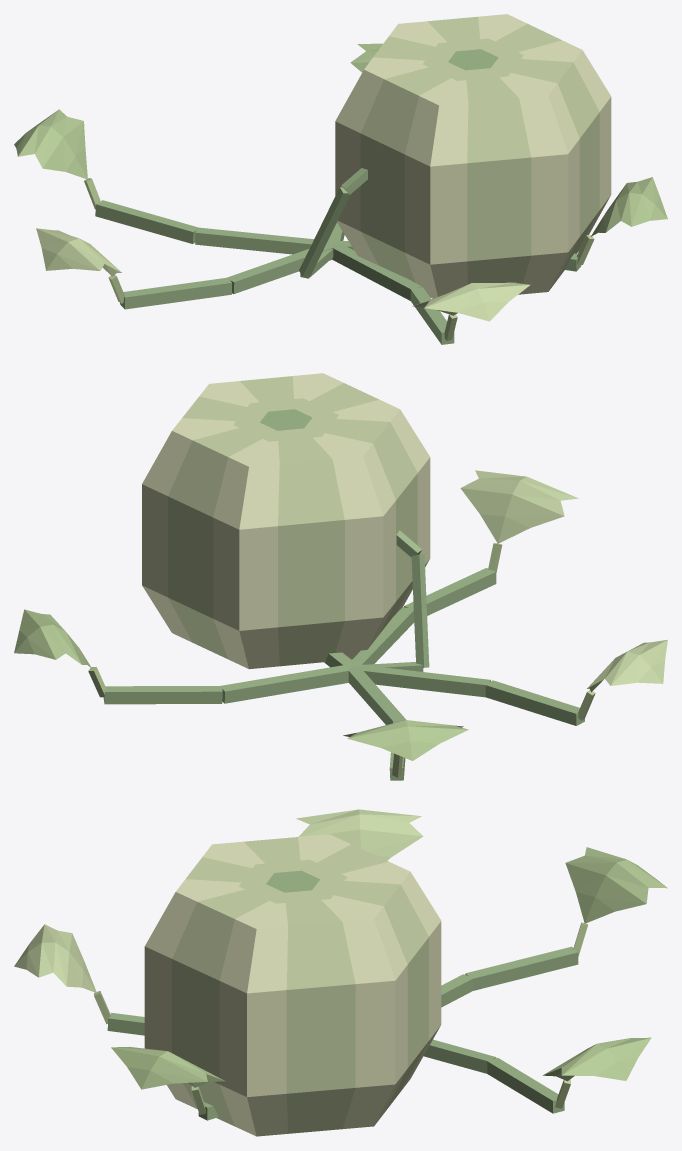
File: crafted-crop-melon-3.glb
3 renders of one model, top to bottom at view 1: azimuth 30°, elevation 25°; view 2: azimuth 150°, elevation 25°; view 3: azimuth 270°, elevation 25°, orthographic. The views are drawn at different scales.
Visible parts, largest first — view 1: fruit-skin, fruit-skin-1, vine-leaf-4, vine-leaf-3, vine-leaf, vine-leaf-1, vine-0-4, vine-1-1, vine-1-4, vine-0-3, vine-0-1, fruit-attachment-1 (+2 smaller); view 2: fruit-skin, fruit-skin-1, vine-leaf-3, vine-leaf-4, vine-0-2, vine-leaf-2, vine-leaf-1, vine-0-1, vine-1-2, vine-1-1, fruit-attachment-1, vine-1-3 (+3 smaller); view 3: fruit-skin, fruit-skin-1, vine-leaf-4, vine-leaf-1, vine-leaf-3, vine-leaf, vine-leaf-2, vine-1-4, vine-1-2, vine-0-2, fruit-stem, vine-1-3 (+1 smaller).
Part boxes in pixels (x1,y1,x2,y2): fruit-skin: [335, 14, 611, 298]; fruit-skin-1: [360, 16, 599, 294]; vine-leaf-4: [14, 109, 87, 179]; vine-leaf-3: [412, 282, 530, 321]; vine-leaf: [591, 177, 667, 236]; vine-leaf-1: [36, 228, 121, 276]; vine-0-4: [195, 227, 332, 254]; vine-1-1: [120, 277, 231, 309]; vine-1-4: [95, 200, 198, 243]; vine-0-3: [331, 244, 421, 300]; vine-0-1: [226, 246, 332, 293]; fruit-attachment-1: [299, 187, 350, 276]; fruit-skin: [142, 373, 430, 669]; fruit-skin-1: [168, 376, 417, 666]; vine-leaf-3: [460, 470, 578, 543]; vine-leaf-4: [343, 720, 468, 760]; vine-0-2: [220, 664, 352, 703]; vine-leaf-2: [14, 609, 91, 668]; vine-leaf-1: [587, 639, 667, 692]; vine-0-1: [359, 665, 490, 697]; vine-1-2: [103, 686, 222, 704]; vine-1-1: [485, 680, 584, 725]; fruit-attachment-1: [411, 554, 429, 667]; vine-1-3: [404, 568, 496, 615]; fruit-skin: [144, 834, 441, 1136]; fruit-skin-1: [172, 837, 428, 1133]; vine-leaf-4: [565, 847, 667, 923]; vine-leaf-1: [296, 809, 423, 860]; vine-leaf-3: [14, 924, 96, 992]; vine-leaf: [111, 1046, 225, 1089]; vine-leaf-2: [543, 1037, 651, 1081]; vine-1-4: [465, 946, 578, 990]; vine-1-2: [487, 1058, 564, 1113]; vine-0-2: [424, 1039, 496, 1073]; fruit-stem: [266, 870, 319, 892]; vine-1-3: [107, 1012, 144, 1035].
Size of the model in its own units: 0.9421 by 0.3343 by 0.943.
